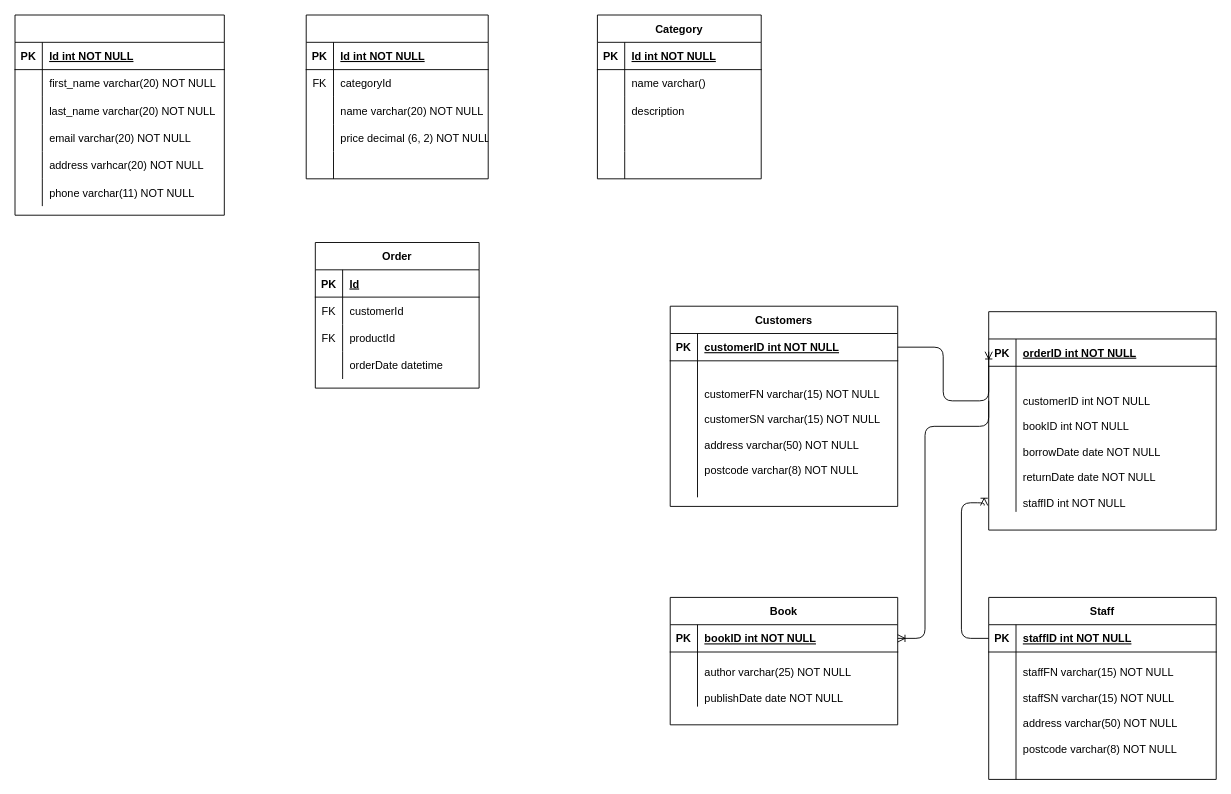
This 1231x794 diagram has some shape labels left out. The shapes that lost their labels are listed below. From the top down, each one's box as (x1, y1, x2, y2) in pixels, then its label:
(14, 14, 224, 215): Customer
(305, 14, 488, 179): Product
(988, 311, 1216, 530): Orders
